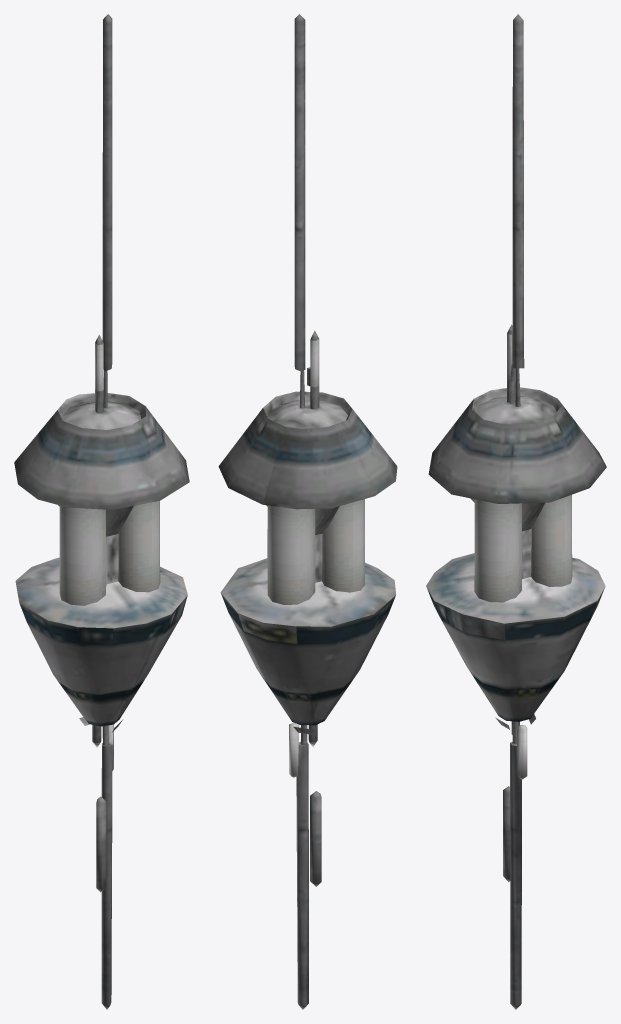
The model's file is spc_beacon_transport_route_l2.fbx.
The picture shows the model from 3 angles, left to right: view 1: azimuth 30°, elevation 25°; view 2: azimuth 150°, elevation 25°; view 3: azimuth 270°, elevation 25°; orthographic projection.
Parts seen in each view (by area): view 1: mesh_node; view 2: mesh_node; view 3: mesh_node.
Part boxes in pixels (x1,y1,x2,y2): mesh_node: [14, 14, 189, 1009]; mesh_node: [218, 14, 397, 1009]; mesh_node: [426, 14, 606, 1009].
Size of the model in its own units: 14.83 by 93.08 by 15.31.
